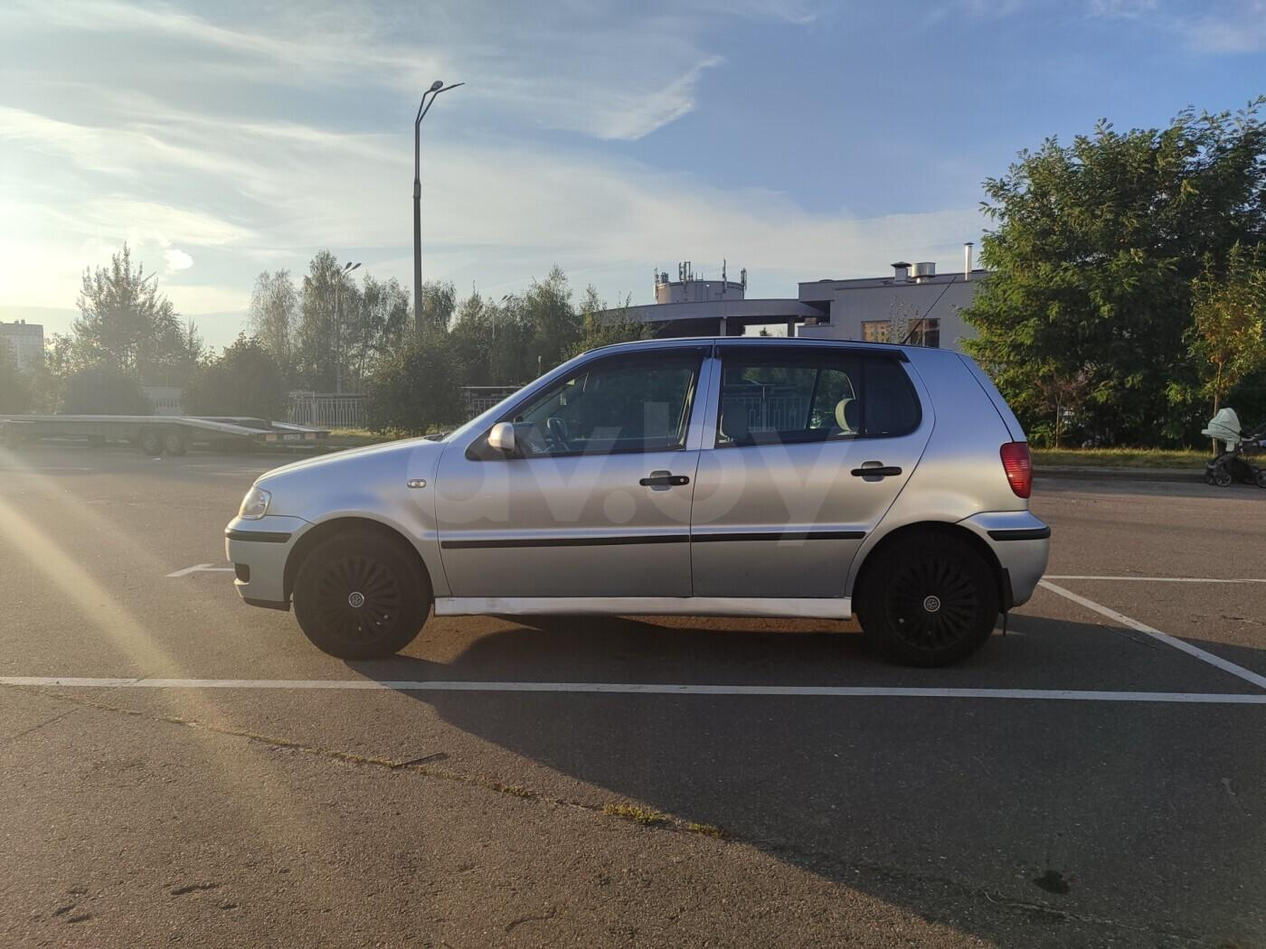Polo_2000-2002: (219, 328, 1057, 727)
